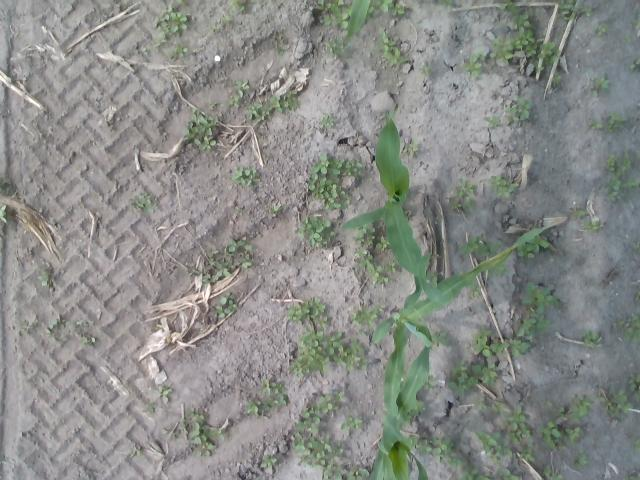Maize: (372, 227, 546, 420), (341, 102, 448, 309), (366, 345, 429, 480), (342, 0, 371, 39)
Weeds: (294, 390, 370, 480), (287, 325, 367, 378), (418, 437, 492, 480), (162, 406, 225, 456), (490, 26, 558, 71), (202, 236, 253, 284), (518, 279, 558, 337), (472, 324, 530, 356), (448, 358, 497, 394), (246, 379, 288, 418), (182, 108, 218, 150), (308, 174, 351, 209), (296, 213, 334, 248), (312, 152, 363, 178), (354, 247, 388, 285), (373, 30, 407, 68), (604, 170, 640, 202), (286, 296, 326, 324), (152, 5, 189, 33), (598, 389, 632, 416), (350, 302, 385, 327), (458, 236, 502, 255), (614, 314, 640, 344), (537, 422, 561, 450), (500, 420, 530, 442), (488, 176, 518, 198), (488, 441, 514, 466), (272, 90, 300, 112), (558, 0, 590, 19), (44, 315, 66, 340), (602, 112, 628, 132), (129, 192, 157, 210), (324, 39, 350, 58), (230, 166, 256, 185), (569, 394, 591, 415), (217, 293, 236, 317), (464, 54, 481, 79), (478, 430, 500, 449), (588, 78, 610, 96), (315, 0, 344, 13), (368, 0, 394, 14), (168, 40, 188, 58), (340, 414, 362, 430), (324, 14, 348, 28), (455, 178, 473, 196), (617, 151, 632, 172), (516, 97, 530, 119), (244, 102, 261, 120), (542, 465, 562, 480), (496, 468, 520, 480), (503, 107, 519, 125), (513, 12, 532, 27), (234, 79, 249, 98), (509, 406, 526, 422), (532, 236, 548, 253), (516, 243, 534, 258), (158, 384, 172, 403), (66, 319, 90, 330), (565, 426, 581, 442), (581, 330, 598, 345), (228, 0, 246, 14), (404, 140, 418, 158), (354, 232, 374, 244), (154, 32, 167, 50), (570, 206, 586, 220), (38, 266, 49, 286), (374, 235, 388, 250), (432, 332, 448, 345), (546, 402, 563, 414), (259, 456, 277, 467), (130, 444, 144, 458), (519, 448, 534, 461), (78, 332, 94, 344), (484, 115, 500, 127), (187, 262, 200, 276), (628, 374, 640, 389), (0, 178, 11, 194), (362, 223, 376, 235), (18, 318, 30, 332), (407, 433, 418, 448), (319, 116, 337, 125), (425, 374, 435, 390), (260, 104, 270, 120), (576, 454, 589, 466), (469, 286, 482, 298), (142, 402, 156, 413), (492, 402, 506, 412), (464, 197, 474, 211), (270, 204, 280, 218), (606, 153, 614, 170), (392, 3, 403, 15), (228, 96, 240, 107), (593, 25, 606, 35), (135, 46, 148, 56), (0, 206, 7, 224), (586, 221, 598, 231), (499, 1, 512, 10), (564, 414, 580, 421), (318, 316, 328, 327), (591, 120, 601, 131), (478, 396, 486, 409), (210, 100, 220, 110), (210, 24, 222, 32), (450, 201, 460, 210), (386, 262, 394, 273), (634, 438, 640, 452), (631, 59, 640, 68), (358, 328, 368, 336), (622, 35, 632, 43), (222, 16, 232, 24), (438, 0, 452, 5), (511, 3, 518, 12), (634, 392, 640, 402), (550, 76, 560, 82), (422, 66, 429, 74), (633, 241, 640, 249), (479, 52, 486, 60), (276, 50, 285, 56), (534, 66, 544, 71), (177, 0, 188, 4), (558, 445, 566, 450), (635, 292, 640, 300), (236, 206, 245, 210), (631, 475, 638, 480), (272, 35, 280, 39)
